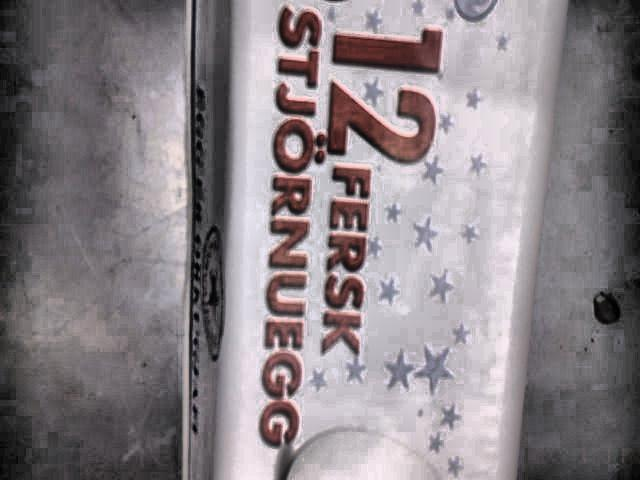Paper: (182, 0, 567, 479)
